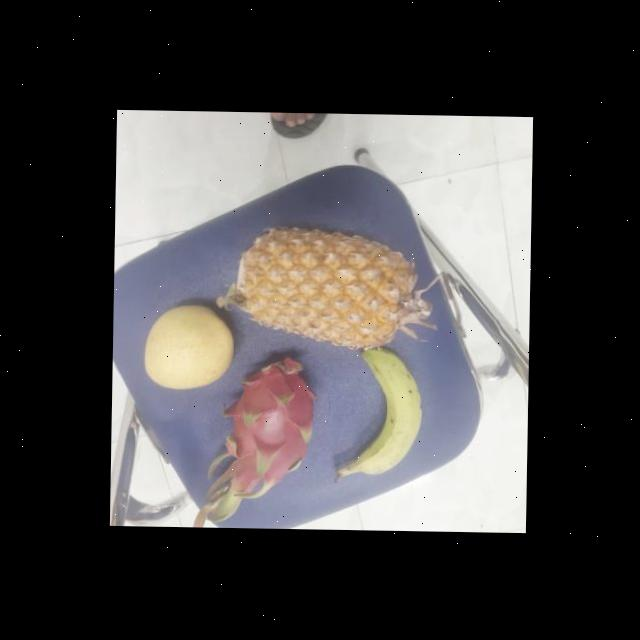banana: (337, 351, 425, 477)
pear: (141, 302, 238, 388)
pineapple: (224, 224, 429, 348)
pitaya: (214, 358, 320, 490)
